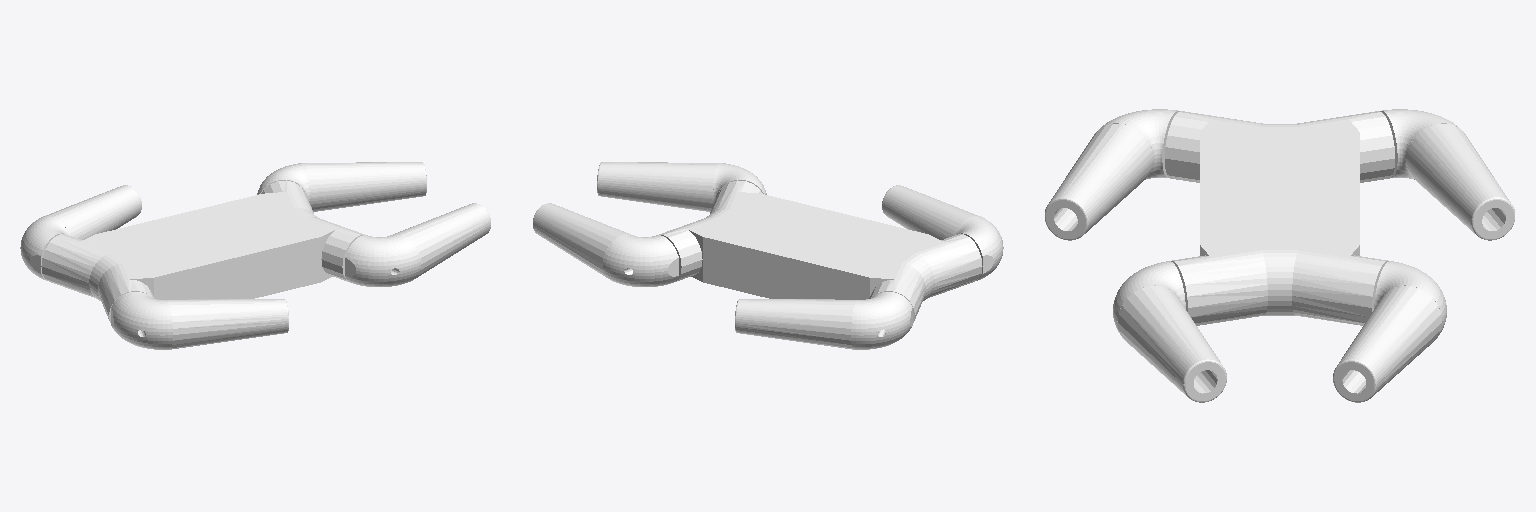
URDF robot description (20_degree):
<?xml version="1.0" encoding="utf-8"?>
<!-- This URDF was automatically created by SolidWorks to URDF Exporter! Originally created by [author] ([email redacted]) 
     Commit Version: 1.5.1-0-g916b5db  Build Version: 1.5.7152.31018
     For more information, please see http://wiki.ros.org/sw_urdf_exporter -->
<robot
  name="20_degree">
  <link
    name="base_link">
    <inertial>
      <origin
        xyz="1.3878E-17 6.5989E-08 8.6736E-18"
        rpy="0 0 0" />
      <mass
        value="2.803" />
      <inertia
        ixx="0.009742969"
        ixy="2.5345E-18"
        ixz="-8.2361E-11"
        iyy="0.042935618"
        iyz="-7.6873E-20"
        izz="0.050306797" />
    </inertial>
    <visual>
      <origin
        xyz="0 0 0"
        rpy="0 0 0" />
      <geometry>
        <mesh
          filename="package://20_degree/meshes/base_link.STL" />
      </geometry>
      <material
        name="">
        <color
          rgba="1 1 1 1" />
      </material>
    </visual>
    <collision>
      <origin
        xyz="0 0 0"
        rpy="0 0 0" />
      <geometry>
        <mesh
          filename="package://20_degree/meshes/base_link.STL" />
      </geometry>
    </collision>
  </link>
  <link
    name="left_fromt_link">
    <inertial>
      <origin
        xyz="-9.2988E-08 0.075165 -0.01132"
        rpy="0 0 0" />
      <mass
        value="0.0926" />
      <inertia
        ixx="0.000343742"
        ixy="3.1891E-10"
        ixz="5.76E-10"
        iyy="0.000069569"
        iyz="-0.000074273"
        izz="0.000322861" />
    </inertial>
    <visual>
      <origin
        xyz="0 0 0"
        rpy="0 0 0" />
      <geometry>
        <mesh
          filename="package://20_degree/meshes/left_fromt_link.STL" />
      </geometry>
      <material
        name="">
        <color
          rgba="1 1 1 1" />
      </material>
    </visual>
    <collision>
      <origin
        xyz="0 0 0"
        rpy="0 0 0" />
      <geometry>
        <mesh
          filename="package://20_degree/meshes/left_fromt_link.STL" />
      </geometry>
    </collision>
  </link>
  <joint
    name="left_front_leg"
    type="continuous">
    <origin
      xyz="0.16523 0.096788 0"
      rpy="1.5708 1.5708 0" />
    <parent
      link="base_link" />
    <child
      link="left_fromt_link" />
    <axis
      xyz="0 0.34202 -0.93969" />
    <limit
      effort="5"
      velocity="487" />
  </joint>
  <link
    name="right_front_link">
    <inertial>
      <origin
        xyz="9.2988E-08 0.075165 0.01132"
        rpy="0 0 0" />
      <mass
        value="0.0926" />
      <inertia
        ixx="0.000343742"
        ixy="-3.1891E-10"
        ixz="5.76E-10"
        iyy="0.000069569"
        iyz="0.000074273"
        izz="0.000322861" />
    </inertial>
    <visual>
      <origin
        xyz="0 0 0"
        rpy="0 0 0" />
      <geometry>
        <mesh
          filename="package://20_degree/meshes/right_front_link.STL" />
      </geometry>
      <material
        name="">
        <color
          rgba="1 1 1 1" />
      </material>
    </visual>
    <collision>
      <origin
        xyz="0 0 0"
        rpy="0 0 0" />
      <geometry>
        <mesh
          filename="package://20_degree/meshes/right_front_link.STL" />
      </geometry>
    </collision>
  </link>
  <joint
    name="right_front_leg"
    type="continuous">
    <origin
      xyz="0.16523 -0.096788 0"
      rpy="1.5708 1.5708 0" />
    <parent
      link="base_link" />
    <child
      link="right_front_link" />
    <axis
      xyz="0 0.34202 0.93969" />
    <limit
      effort="5"
      velocity="487" />
  </joint>
  <link
    name="right_back_link">
    <inertial>
      <origin
        xyz="7.7193E-08 0.066761 0.036345"
        rpy="0 0 0" />
      <mass
        value="0.0926" />
      <inertia
        ixx="0.000343742"
        ixy="-2.7646E-10"
        ixz="7.7852E-10"
        iyy="0.000051457"
        iyz="-0.00002451"
        izz="0.000340974" />
    </inertial>
    <visual>
      <origin
        xyz="0 0 0"
        rpy="0 0 0" />
      <geometry>
        <mesh
          filename="package://20_degree/meshes/right_back_link.STL" />
      </geometry>
      <material
        name="">
        <color
          rgba="1 1 1 1" />
      </material>
    </visual>
    <collision>
      <origin
        xyz="0 0 0"
        rpy="0 0 0" />
      <geometry>
        <mesh
          filename="package://20_degree/meshes/right_back_link.STL" />
      </geometry>
    </collision>
  </link>
  <joint
    name="right_back_leg"
    type="continuous">
    <origin
      xyz="-0.16523 -0.096788 0"
      rpy="1.9199 1.5708 0" />
    <parent
      link="base_link" />
    <child
      link="right_back_link" />
    <axis
      xyz="0 0 1" />
    <limit
      effort="5"
      velocity="487" />
  </joint>
  <link
    name="left_back_link">
    <inertial>
      <origin
        xyz="-7.7193E-08 0.050304 -0.056987"
        rpy="0 0 0" />
      <mass
        value="0.0926" />
      <inertia
        ixx="0.000343742"
        ixy="5.2605E-10"
        ixz="6.3701E-10"
        iyy="0.000101079"
        iyz="0.000111825"
        izz="0.000291352" />
    </inertial>
    <visual>
      <origin
        xyz="0 0 0"
        rpy="0 0 0" />
      <geometry>
        <mesh
          filename="package://20_degree/meshes/left_back_link.STL" />
      </geometry>
      <material
        name="">
        <color
          rgba="1 1 1 1" />
      </material>
    </visual>
    <collision>
      <origin
        xyz="0 0 0"
        rpy="0 0 0" />
      <geometry>
        <mesh
          filename="package://20_degree/meshes/left_back_link.STL" />
      </geometry>
    </collision>
  </link>
  <joint
    name="left_back_leg"
    type="continuous">
    <origin
      xyz="-0.16523 0.096788 0"
      rpy="1.5708 1.5708 0" />
    <parent
      link="base_link" />
    <child
      link="left_back_link" />
    <axis
      xyz="0 -0.34202 -0.93969" />
    <limit
      effort="5"
      velocity="487" />
  </joint>
</robot>

--- Render facts (derived) ---
The picture shows the robot from 3 angles, left to right: view 1: azimuth 30°, elevation 25°; view 2: azimuth 150°, elevation 25°; view 3: azimuth 270°, elevation 25°; orthographic projection.
Robot: 20_degree — 5 links, 4 joints (4 continuous); root link base_link; default pose: every joint at zero.
Visible links, largest first — view 1: base_link, right_back_link, right_front_link, left_fromt_link, left_back_link; view 2: base_link, left_back_link, left_fromt_link, right_front_link, right_back_link; view 3: base_link, right_back_link, left_back_link, right_front_link, left_fromt_link.
Link boxes in pixels (x1=…): base_link: x1=41, y1=180, x2=364, y2=322; right_back_link: x1=111, y1=292, x2=288, y2=349; right_front_link: x1=345, y1=203, x2=490, y2=286; left_fromt_link: x1=257, y1=162, x2=426, y2=211; left_back_link: x1=20, y1=185, x2=141, y2=280; base_link: x1=659, y1=180, x2=982, y2=322; left_back_link: x1=735, y1=292, x2=912, y2=349; left_fromt_link: x1=533, y1=203, x2=678, y2=286; right_front_link: x1=597, y1=162, x2=766, y2=211; right_back_link: x1=882, y1=185, x2=1003, y2=280; base_link: x1=1165, y1=111, x2=1394, y2=325; right_back_link: x1=1045, y1=109, x2=1179, y2=240; left_back_link: x1=1380, y1=109, x2=1514, y2=240; right_front_link: x1=1113, y1=261, x2=1226, y2=402; left_fromt_link: x1=1333, y1=261, x2=1446, y2=402.
Bounding box of the posed robot: 0.5652 × 0.4395 × 0.064 m (x, y, z).
Meshes: 5 distinct files referenced, 5 mesh visuals loaded (5 binary STL).